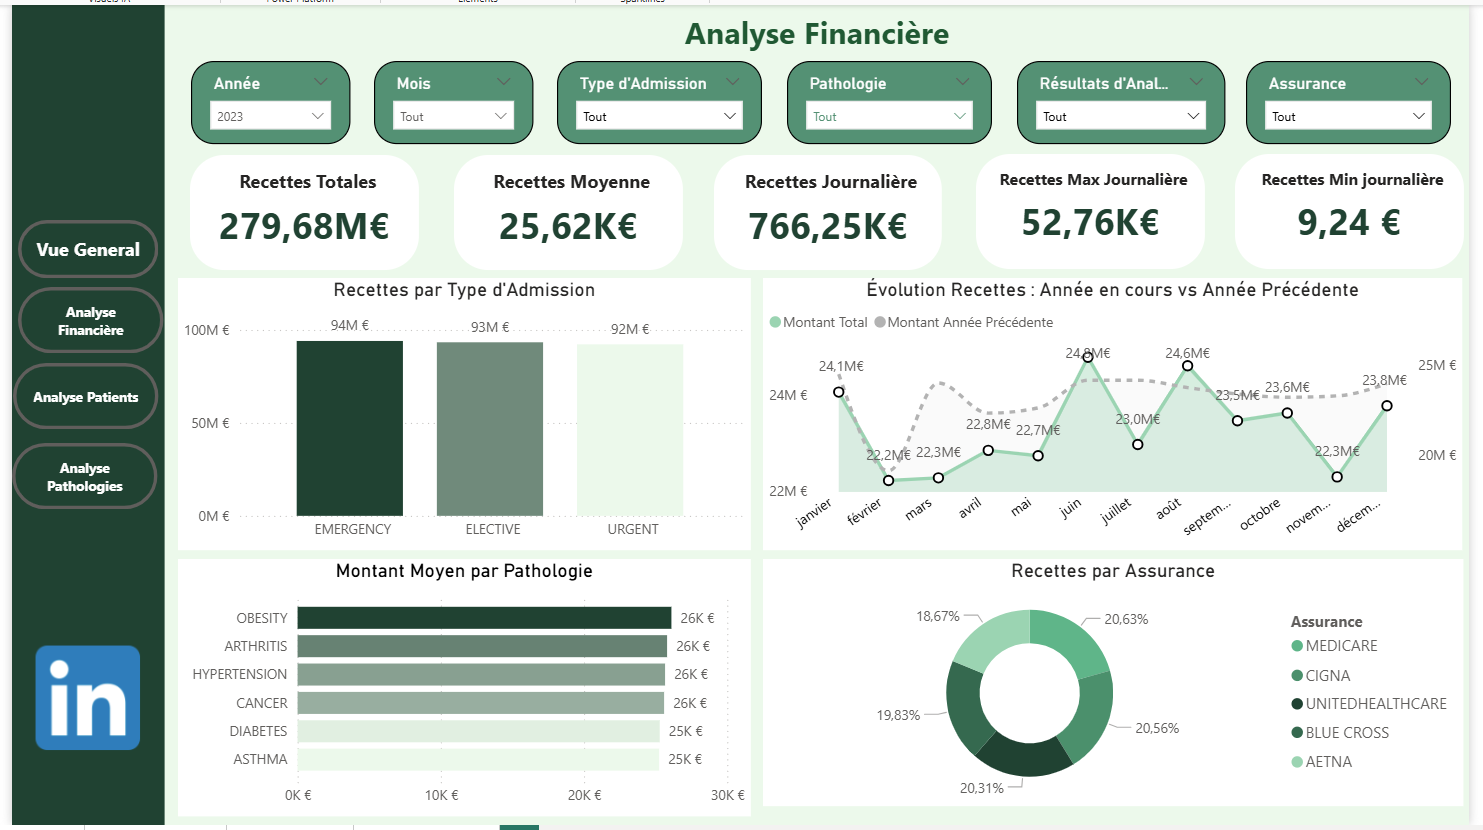

The dashboard page shown, as its layout file describes it:
{"tool":"powerbi","page":{"name":"Analyse Financière","canvas":[1280,720],"ordinal":1},"visuals":[{"type":"shape","box":[0,0,134.2,720],"z":0},{"type":"shape","box":[134.2,0,1145.8,60.3],"z":1000},{"type":"textbox","box":[133.2,0,1146.8,59.9],"z":3000},{"type":"slicer","fields":{"Values":["Calendrier.Mois"]},"box":[317.9,49.1,139.7,72.5],"z":4000},{"type":"slicer","fields":{"Values":["healthcare_dataset.Pathologie"]},"box":[680.5,49.1,180.3,72.5],"z":5000},{"type":"slicer","fields":{"Values":["healthcare_dataset.Type d'Admission"]},"box":[478.9,49.1,180.3,72.5],"z":6000},{"type":"slicer","fields":{"Values":["healthcare_dataset.Résultats d'Analyse"]},"box":[882.1,49.1,183.5,72.5],"z":7000},{"type":"slicer","fields":{"Values":["healthcare_dataset.Assurance"]},"box":[1083.7,49.1,180.3,72.5],"z":8000},{"type":"card","title":"Recettes Journalière","fields":{"Values":["healthcare_dataset.Recettes par Jour"]},"box":[616.3,131.5,199.7,100.8],"z":9000},{"type":"card","title":"Recettes Totales","fields":{"Values":["Sum(healthcare_dataset.Montant Facturé)"]},"box":[156.5,131.5,200.6,100.8],"z":10000},{"type":"card","title":"Recettes Moyenne","fields":{"Values":["healthcare_dataset.Montant Moyen"]},"box":[387.8,131.5,200.6,100.8],"z":11000},{"type":"card","title":"Recettes Max Journalière","fields":{"Values":["healthcare_dataset.Recettes Max"]},"box":[846.6,131.2,200.5,101.3],"z":12000},{"type":"card","title":"Recettes Min journalière","fields":{"Values":["healthcare_dataset.Recettes Min"]},"box":[1073.8,131.2,200.5,101.3],"z":13000},{"type":"columnChart","title":"Recettes par Type d''Admission","fields":{"Category":["healthcare_dataset.Type d'Admission"],"Y":["healthcare_dataset.Montant Total"]},"box":[145.9,240,503,239],"z":14000},{"type":"lineChart","title":"Évolution Recettes : Année en cours vs Année Précédente","fields":{"Y":["healthcare_dataset.Montant Total"],"Category":["Calendrier.Mois"],"Y2":["healthcare_dataset.Montant Année Précédente"]},"box":[659.5,240,614.4,239],"z":15000},{"type":"slicer","fields":{"Values":["Calendrier.Année"]},"box":[156.8,49.1,139.7,72.5],"z":16000},{"type":"barChart","title":"Montant Moyen par Pathologie","fields":{"Category":["healthcare_dataset.Pathologie"],"Y":["healthcare_dataset.Montant Moyen"]},"box":[145.9,486.7,503,225.6],"z":17000},{"type":"donutChart","title":"Recettes par Assurance","fields":{"Category":["healthcare_dataset.Assurance"],"Y":["healthcare_dataset.Montant Total"]},"box":[659.5,486.7,615.4,217],"z":18000},{"type":"actionButton","title":"Vue General","box":[5.3,188.5,123.3,51.1],"z":18001},{"type":"actionButton","title":"Vue General","box":[5.3,247.5,127.7,58.1],"z":18002},{"type":"actionButton","title":"Vue General","box":[0.9,314.4,127.7,58.1],"z":18003},{"type":"actionButton","title":"Vue General","box":[0,384.9,127.7,58.1],"z":18004},{"type":"actionButton","box":[16.9,558.5,99.8,100.7],"z":18005}]}

Visuals, with their boxes on the page's 1280x720 design canvas (x1, y1, x2, y2). These are canvas units, not pixel positions in the 1483x830 screenshot, which may show the page scaled, cropped or inside an application window:
shape: <bbox>0, 0, 134, 720</bbox>
shape: <bbox>134, 0, 1280, 60</bbox>
textbox: <bbox>133, 0, 1280, 60</bbox>
slicer - Calendrier.Mois: <bbox>318, 49, 458, 122</bbox>
slicer - healthcare_dataset.Pathologie: <bbox>680, 49, 861, 122</bbox>
slicer - healthcare_dataset.Type d'Admission: <bbox>479, 49, 659, 122</bbox>
slicer - healthcare_dataset.Résultats d'Analyse: <bbox>882, 49, 1066, 122</bbox>
slicer - healthcare_dataset.Assurance: <bbox>1084, 49, 1264, 122</bbox>
"Recettes Journalière" card: <bbox>616, 132, 816, 232</bbox>
"Recettes Totales" card: <bbox>156, 132, 357, 232</bbox>
"Recettes Moyenne" card: <bbox>388, 132, 588, 232</bbox>
"Recettes Max Journalière" card: <bbox>847, 131, 1047, 232</bbox>
"Recettes Min journalière" card: <bbox>1074, 131, 1274, 232</bbox>
"Recettes par Type d''Admission" columnChart: <bbox>146, 240, 649, 479</bbox>
"Évolution Recettes : Année en cours vs Année Précédente" lineChart: <bbox>660, 240, 1274, 479</bbox>
slicer - Calendrier.Année: <bbox>157, 49, 296, 122</bbox>
"Montant Moyen par Pathologie" barChart: <bbox>146, 487, 649, 712</bbox>
"Recettes par Assurance" donutChart: <bbox>660, 487, 1275, 704</bbox>
"Vue General" actionButton: <bbox>5, 188, 129, 240</bbox>
"Vue General" actionButton: <bbox>5, 248, 133, 306</bbox>
"Vue General" actionButton: <bbox>1, 314, 129, 372</bbox>
"Vue General" actionButton: <bbox>0, 385, 128, 443</bbox>
actionButton: <bbox>17, 558, 117, 659</bbox>
